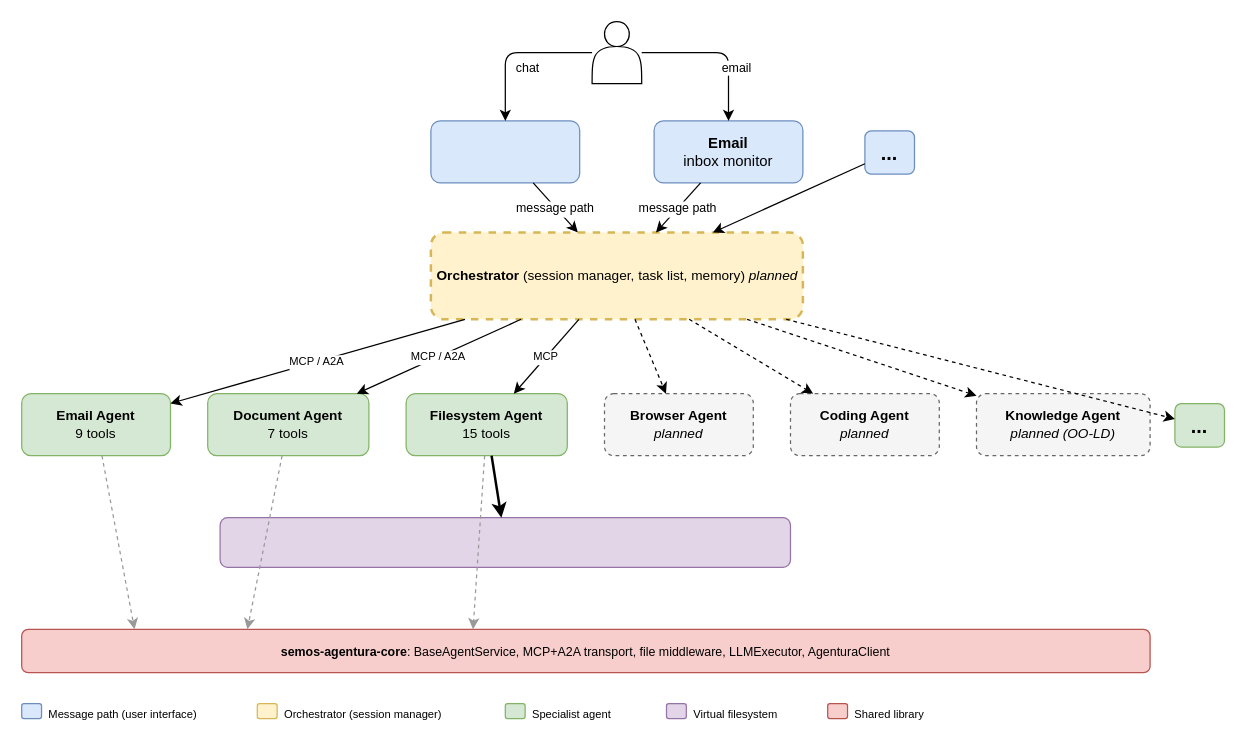
Some shapes in this 1246 by 744 pixel diagram are drawn without their labels. Each missing label, with the box of its shape:
Agentura UI chat client: (430, 120, 580, 183)
User: (591, 20, 642, 84)
Virtual Filesystem (local, WebDAV, SharePoint, session memory, ...): (219, 516, 790, 567)
